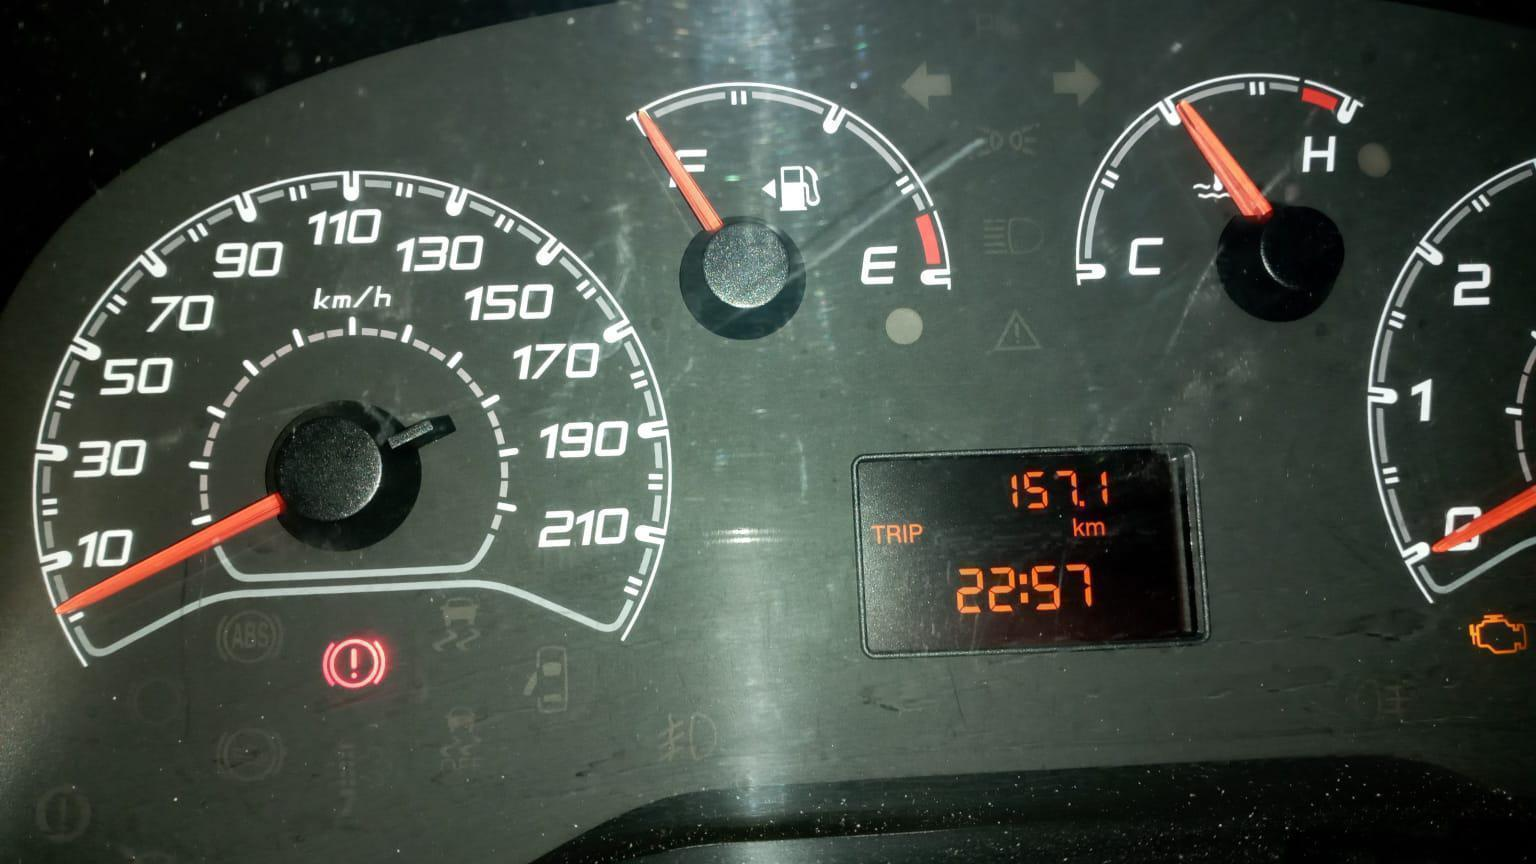,: (1078, 500, 1084, 507)
1: (1010, 474, 1019, 508), (1098, 471, 1108, 505)
2: (955, 567, 984, 614), (987, 567, 1015, 612)
5: (1031, 564, 1061, 610), (1022, 471, 1049, 508)
7: (1065, 562, 1093, 608), (1055, 469, 1078, 506)
X: (886, 524, 902, 545), (1084, 521, 1106, 537), (1018, 573, 1029, 604), (869, 524, 885, 544), (908, 523, 922, 544), (1071, 517, 1084, 537), (900, 524, 907, 543)
odometer: (849, 439, 1213, 661)
